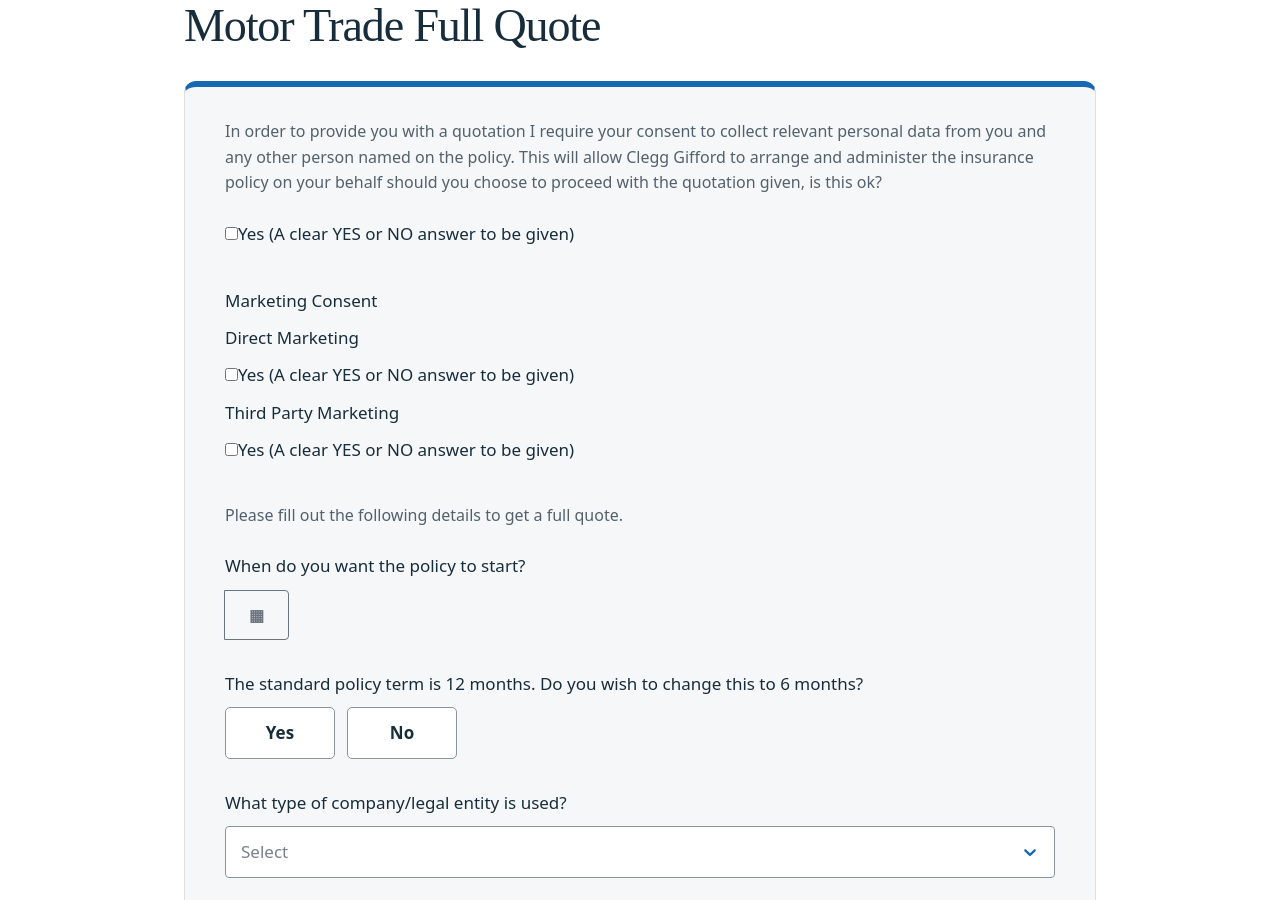
MTS-01 mounted proposer › U01–05 and Q01–06 show exact common copy, RTL controls, source order and no Back
Expected: the heading "Motor Trade Full Quote" is shown, [184,0,600,51]
Expected: the text "Please fill out the following details to get a full quote." is shown, [225,504,623,526]
Click the checkbox with id "marketingConsent-1".
click(232, 375)  # box [225,368,238,381]
(page scrolled)
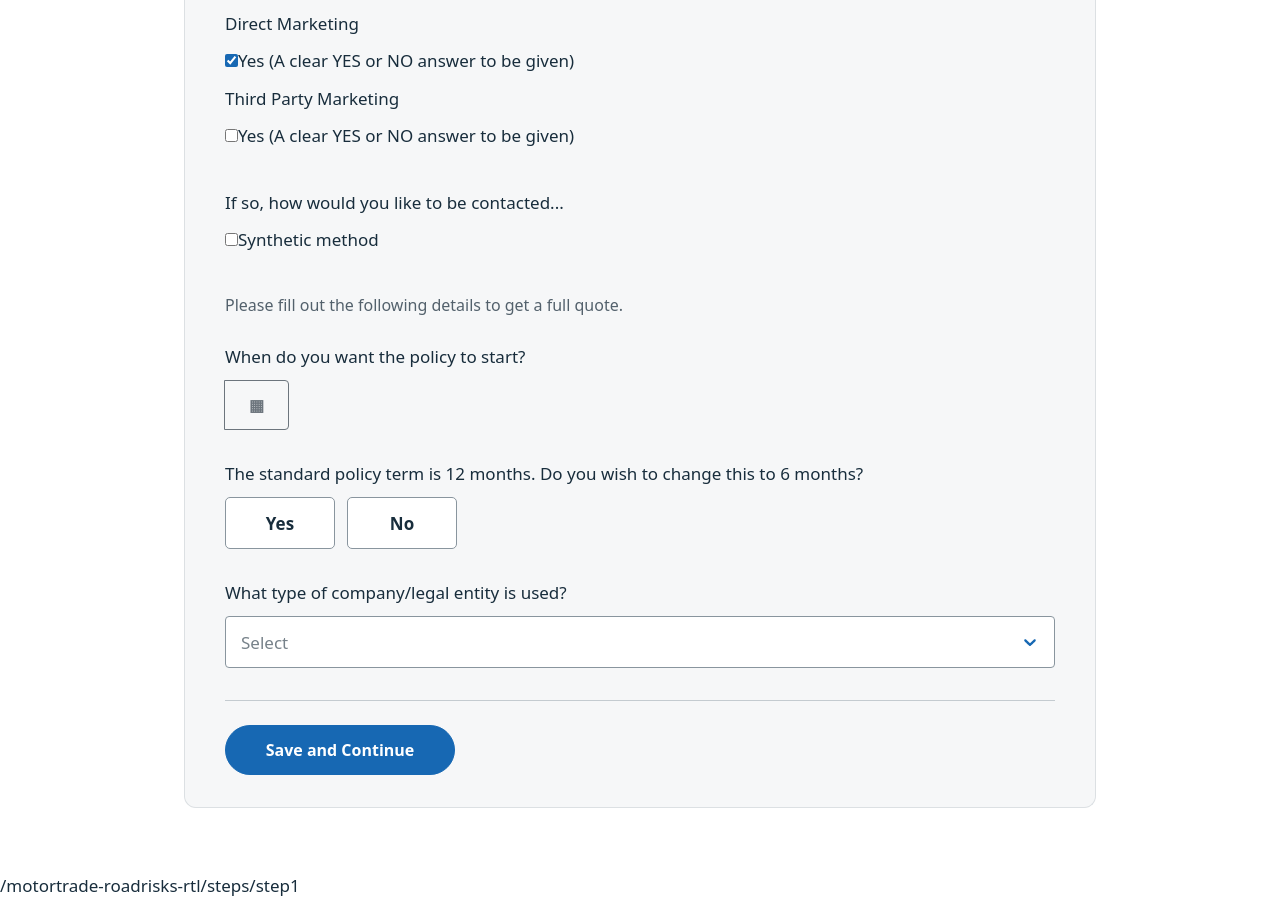
Now the text "If so, how would you like to be contacted..." is shown, box [225,189,564,216]
Now the text "Synthetic method" is shown, box [238,226,379,253]
